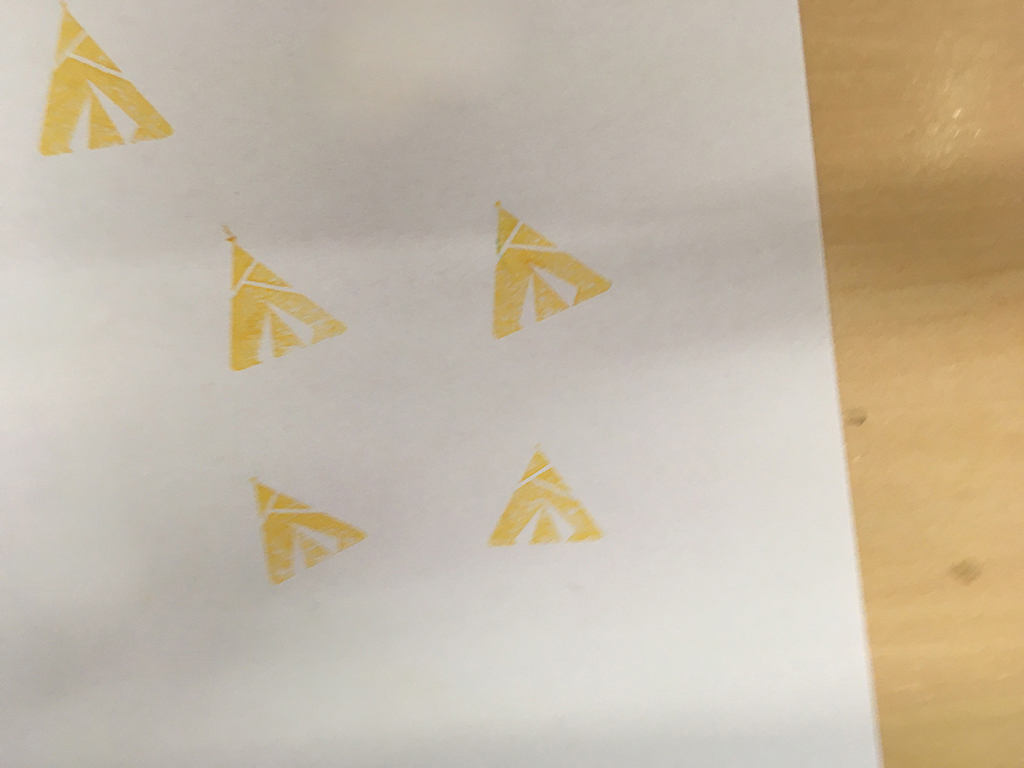tent: (30, 1, 180, 169), (213, 222, 358, 385), (475, 194, 622, 350), (243, 470, 376, 594), (483, 437, 617, 555)
